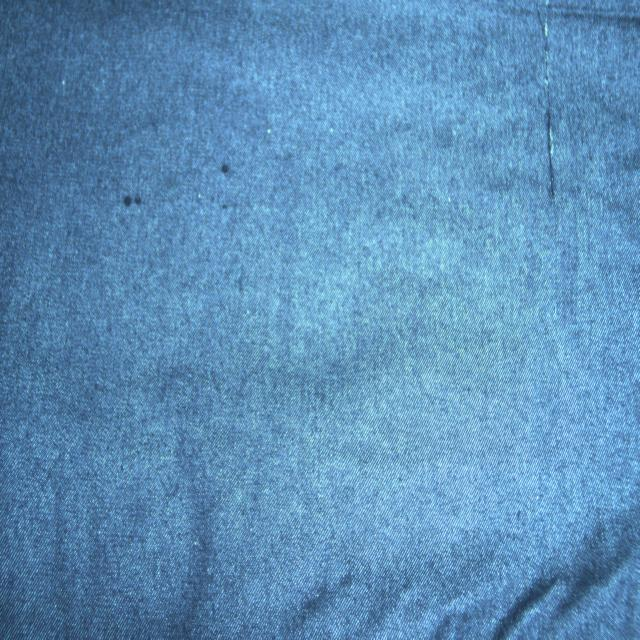defect: (530, 0, 565, 200)
